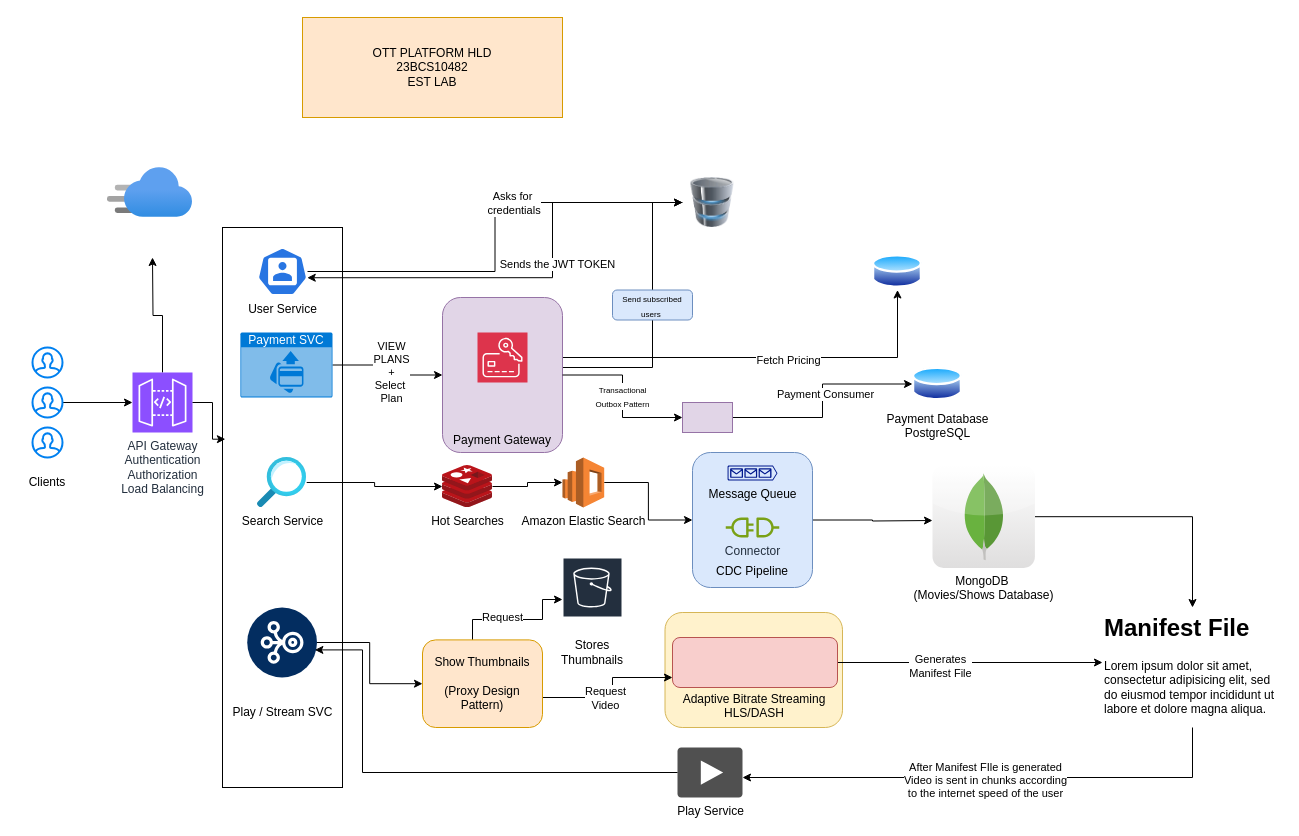
Image size: 1299x836. Some labels were removed from this diagram. Each missing label, with the box of its shape:
Amazon S3: (562, 556, 622, 638)
CDN For fast access: (107, 167, 192, 217)
CHUNKER SERVICE: (672, 636, 838, 688)
KAFKA Producer: (682, 402, 732, 432)
Microservices: (222, 226, 342, 788)
Pricing Databa se PostgreSQL: (872, 252, 922, 290)
Third Party SVC: (476, 332, 528, 382)
User Database MySQL: (682, 177, 742, 227)
